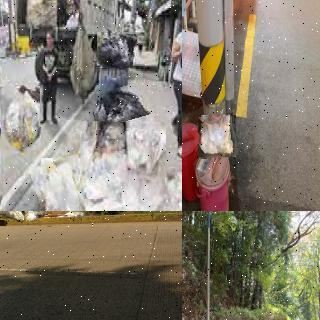Garbage: (79, 121, 165, 211), (35, 154, 105, 211), (92, 85, 155, 141), (118, 168, 182, 211), (0, 86, 41, 150), (197, 114, 237, 158), (95, 30, 135, 70), (24, 211, 52, 220), (0, 211, 24, 221)
